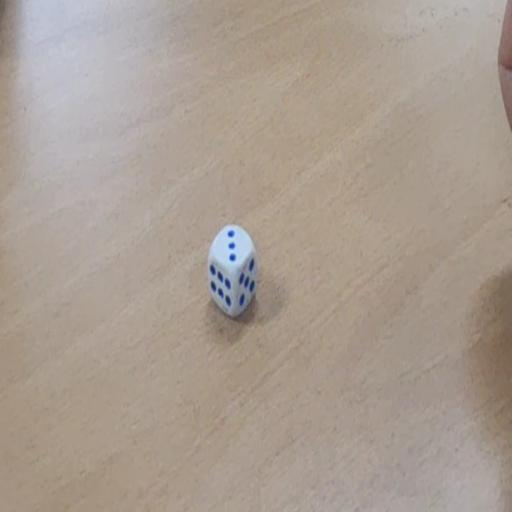dice_3: (206, 222, 258, 320)
